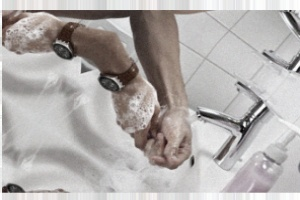washing hand: (73, 24, 279, 199)
